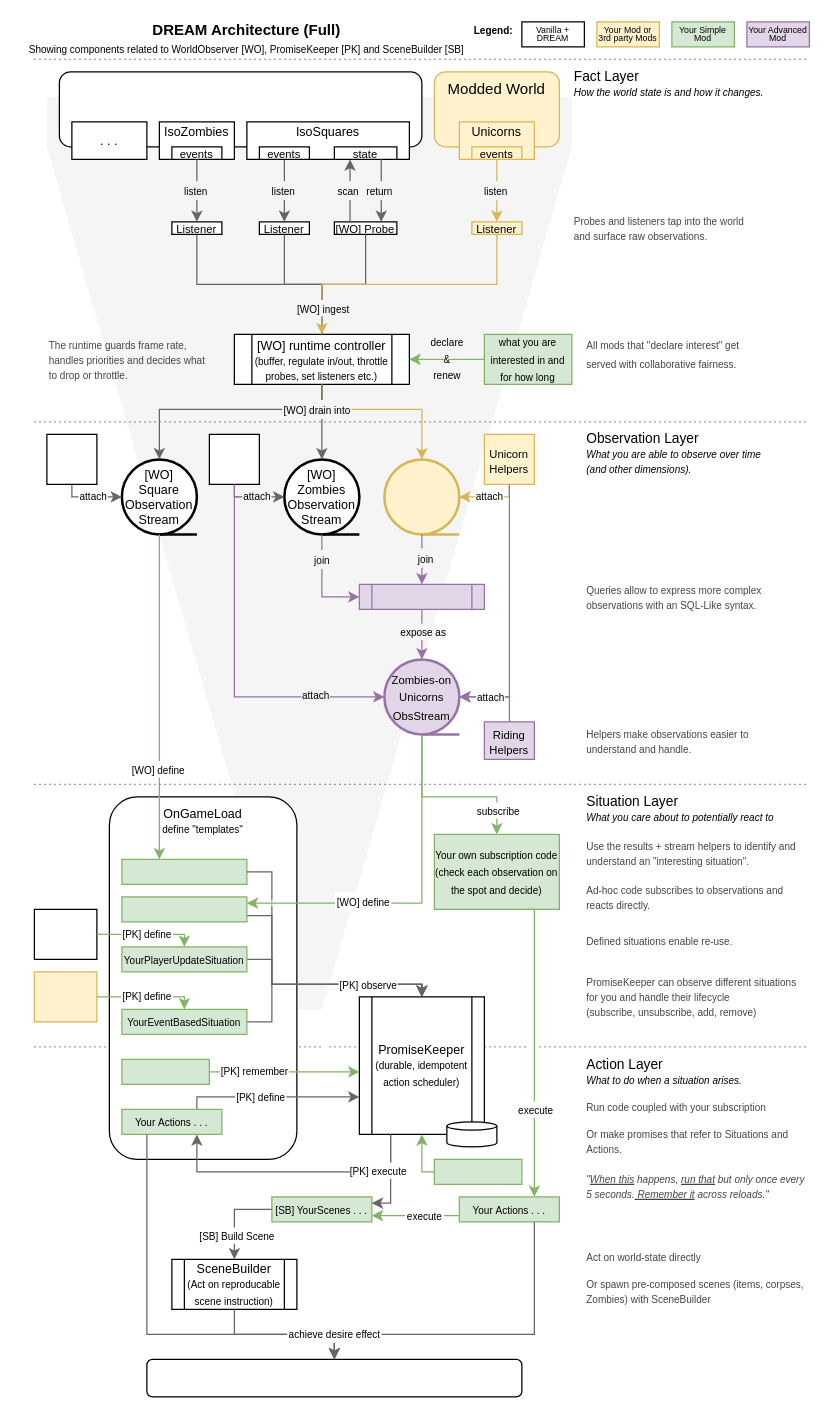
This 833x1419 diagram has some shape labels left out. Here are the shapes that lost their labels. From the top down, the centre of each, then its label:
the point at 240,109: Vanilla World
the point at 71,458: [WO] Square Helpers
the point at 233,458: [WO] Zombie Helpers
the point at 421,496: Unicorn Obsservation Stream
the point at 421,596: [LQR] Query
the point at 184,871: YourSquareSituation
the point at 184,909: Your ZRiderSituation
the point at 65,933: Vanilla PZ Events
the point at 65,996: Starlit LuaEvents
the point at 165,1071: init PromiseKeeper
the point at 471,1134: ModData
the point at 477,1171: Your Promises . . .
the point at 334,1377: World State
